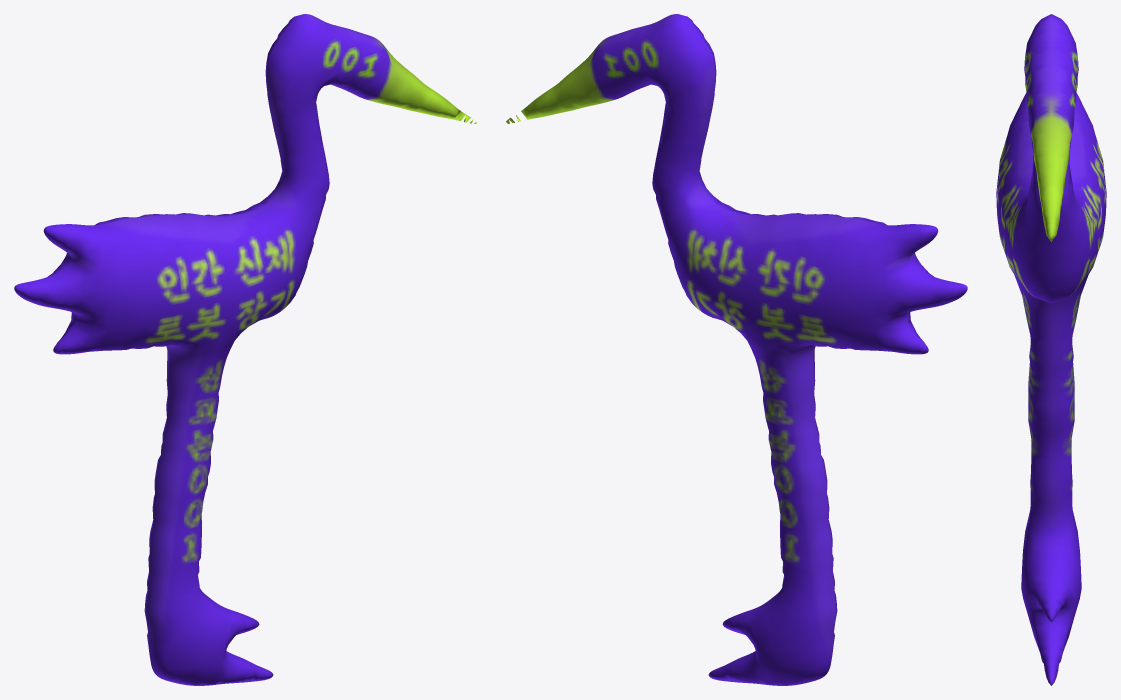
The model's file is bird2.glb.
3 views of the same model, side by side, from view 1: azimuth 30°, elevation 25°; view 2: azimuth 150°, elevation 25°; view 3: azimuth 270°, elevation 25° (orthographic). The views are drawn at different scales.
Parts seen in each view (by area): view 1: Mesh_0.004; view 2: Mesh_0.004; view 3: Mesh_0.004.
Part boxes in pixels (x1,y1,x2,y2): Mesh_0.004: (14, 14, 476, 685); Mesh_0.004: (506, 14, 967, 685); Mesh_0.004: (996, 14, 1106, 685).
Bounding box in the file's own units: 197 × 267 × 38.85.
Materials: 1 (1 with a texture image).
